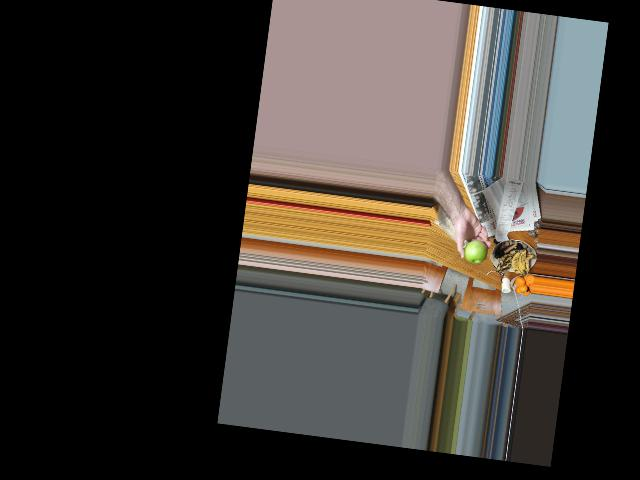apple: (463, 240, 489, 265)
